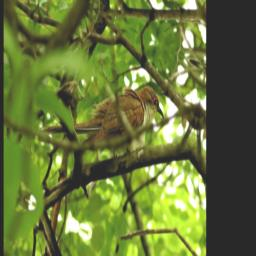Cuckoo: (39, 35, 169, 192)
